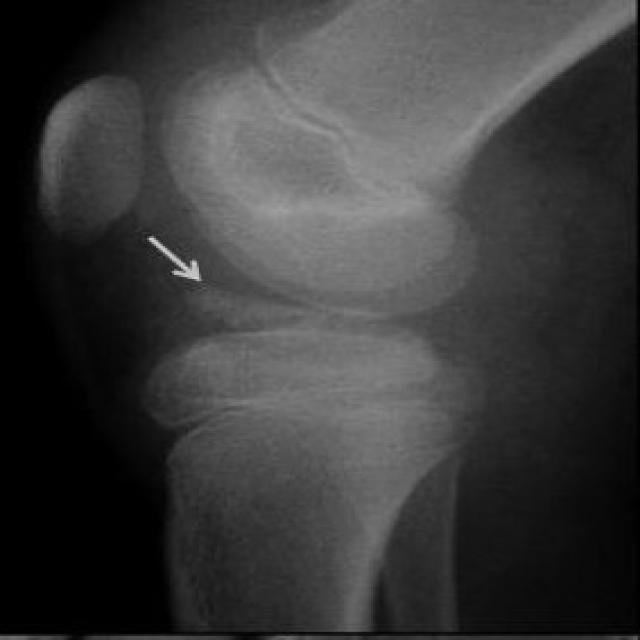Avulsion-fracture-: (173, 260, 331, 342)
